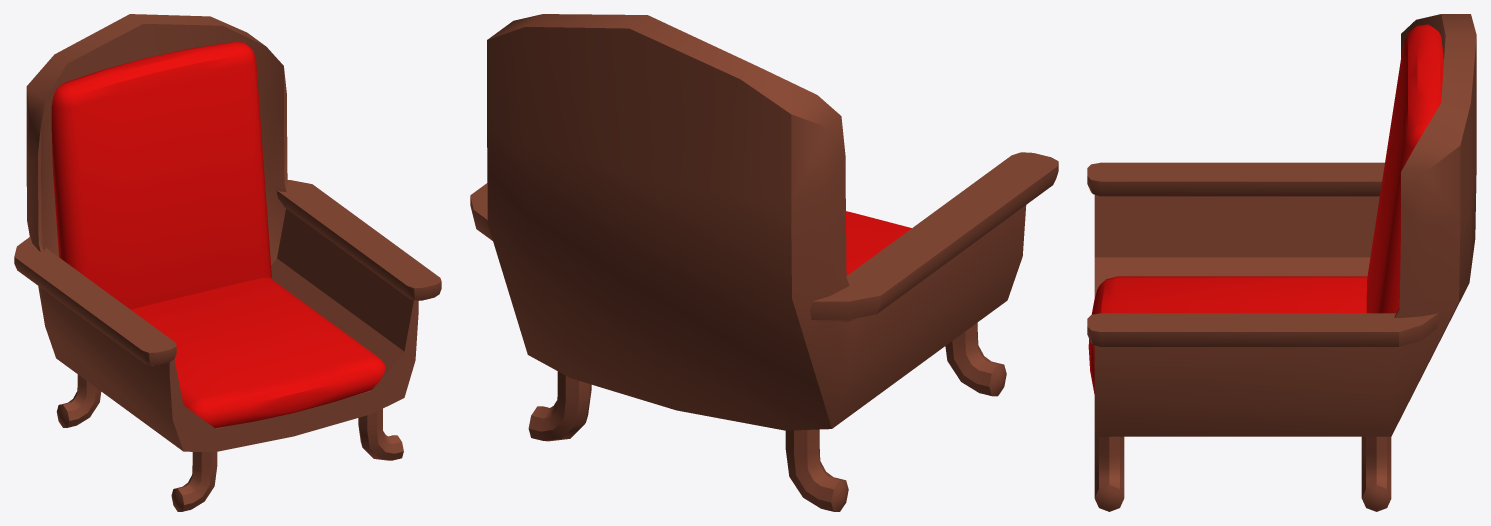
The model's file is chair.fbx.
The picture shows the model from 3 angles, left to right: view 1: azimuth 30°, elevation 25°; view 2: azimuth 150°, elevation 25°; view 3: azimuth 270°, elevation 25°; orthographic projection. The views are drawn at different scales.
Parts seen in each view (by area): view 1: cushion.001, Cylinder.001, cushion, armrest, Cylinder; view 2: Cylinder.001, armrest, Cylinder, cushion; view 3: Cylinder.001, armrest, cushion, cushion.001, Cylinder.
Boxes of the visible parts, bbox=[...] form: cushion.001: bbox=[51, 42, 271, 309]; Cylinder.001: bbox=[26, 14, 418, 451]; cushion: bbox=[131, 277, 385, 428]; armrest: bbox=[14, 180, 441, 365]; Cylinder: bbox=[56, 374, 403, 511]; Cylinder.001: bbox=[487, 14, 1026, 430]; armrest: bbox=[470, 152, 1058, 321]; Cylinder: bbox=[528, 322, 1006, 511]; cushion: bbox=[846, 211, 911, 275]; Cylinder.001: bbox=[1094, 14, 1476, 436]; armrest: bbox=[1087, 162, 1438, 346]; cushion: bbox=[1088, 276, 1367, 394]; cushion.001: bbox=[1366, 24, 1443, 313]; Cylinder: bbox=[1094, 436, 1391, 511].
Bounding box in the file's own units: 270 × 308 × 262.
